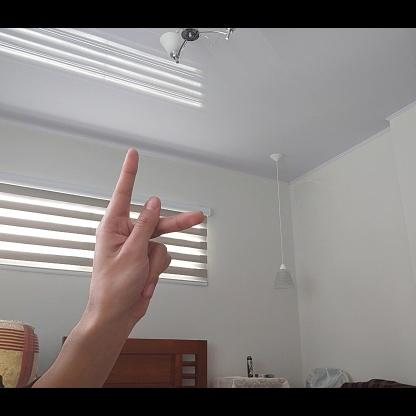K: (86, 145, 206, 330)
